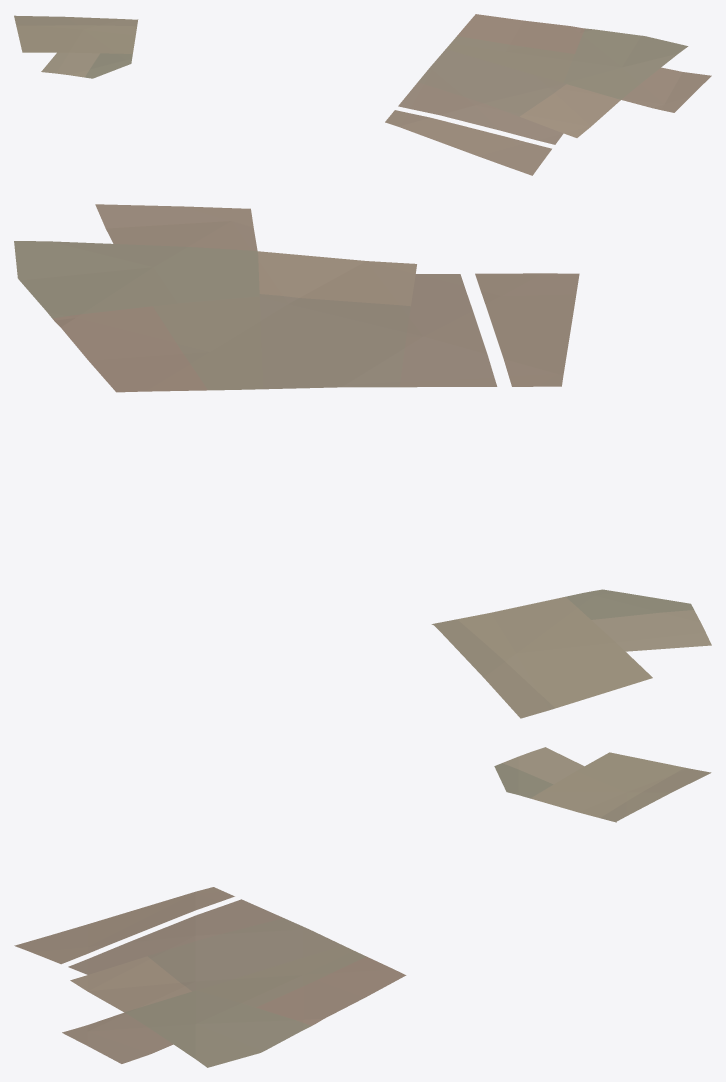
File: farm_28_11_soil.glb
The picture shows the model from 3 angles, top to bottom: view 1: azimuth 30°, elevation 25°; view 2: azimuth 150°, elevation 25°; view 3: azimuth 270°, elevation 25°; orthographic projection. The views are drawn at different scales.
Parts seen in each view (by area): view 1: geometry_0; view 2: geometry_0; view 3: geometry_0.
Part boxes in pixels (x1=…): geometry_0: x1=14, y1=14, x2=711, y2=175; geometry_0: x1=14, y1=204, x2=711, y2=718; geometry_0: x1=14, y1=747, x2=711, y2=1067.
Size of the model in its own units: 559 by 25.54 by 518.
